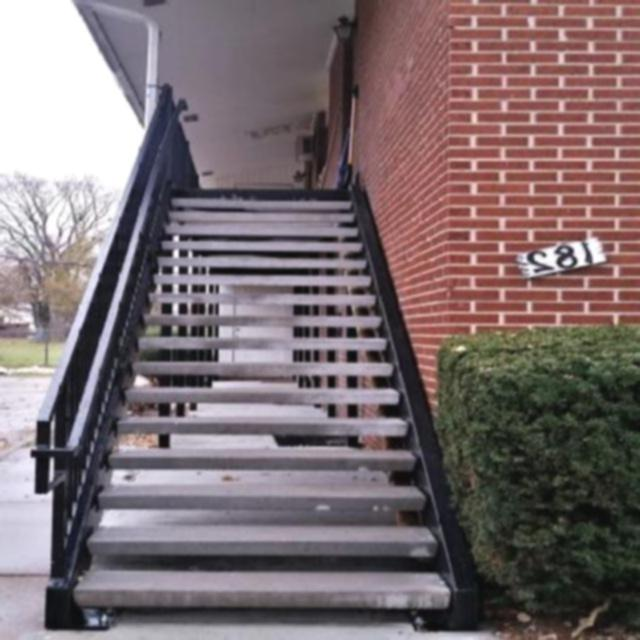stair: (19, 88, 536, 630)
